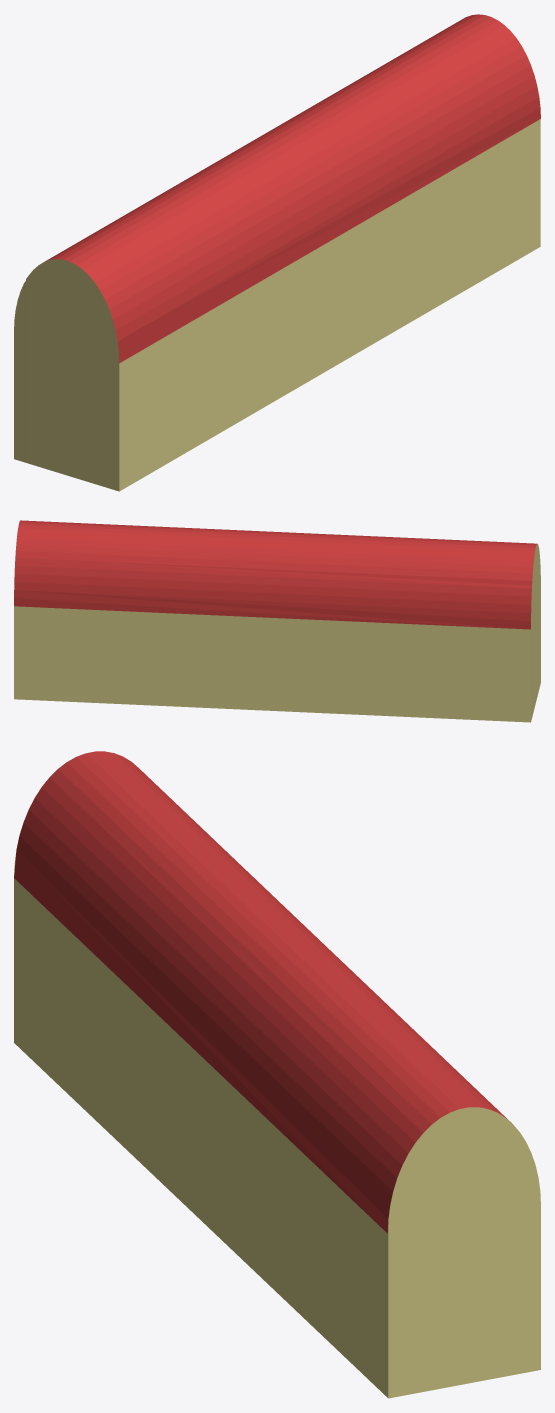
3 views of the same model, one above another, from view 1: azimuth 30°, elevation 25°; view 2: azimuth 150°, elevation 25°; view 3: azimuth 270°, elevation 25° (orthographic). The views are drawn at different scales.
Bounding box in the file's own units: 16.94 × 9.81 × 5.67.
